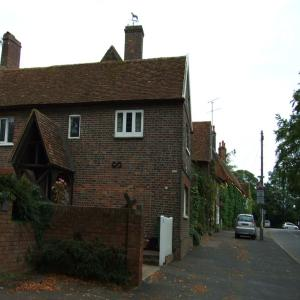Vehicle-registration-plate: (243, 225, 250, 228)
